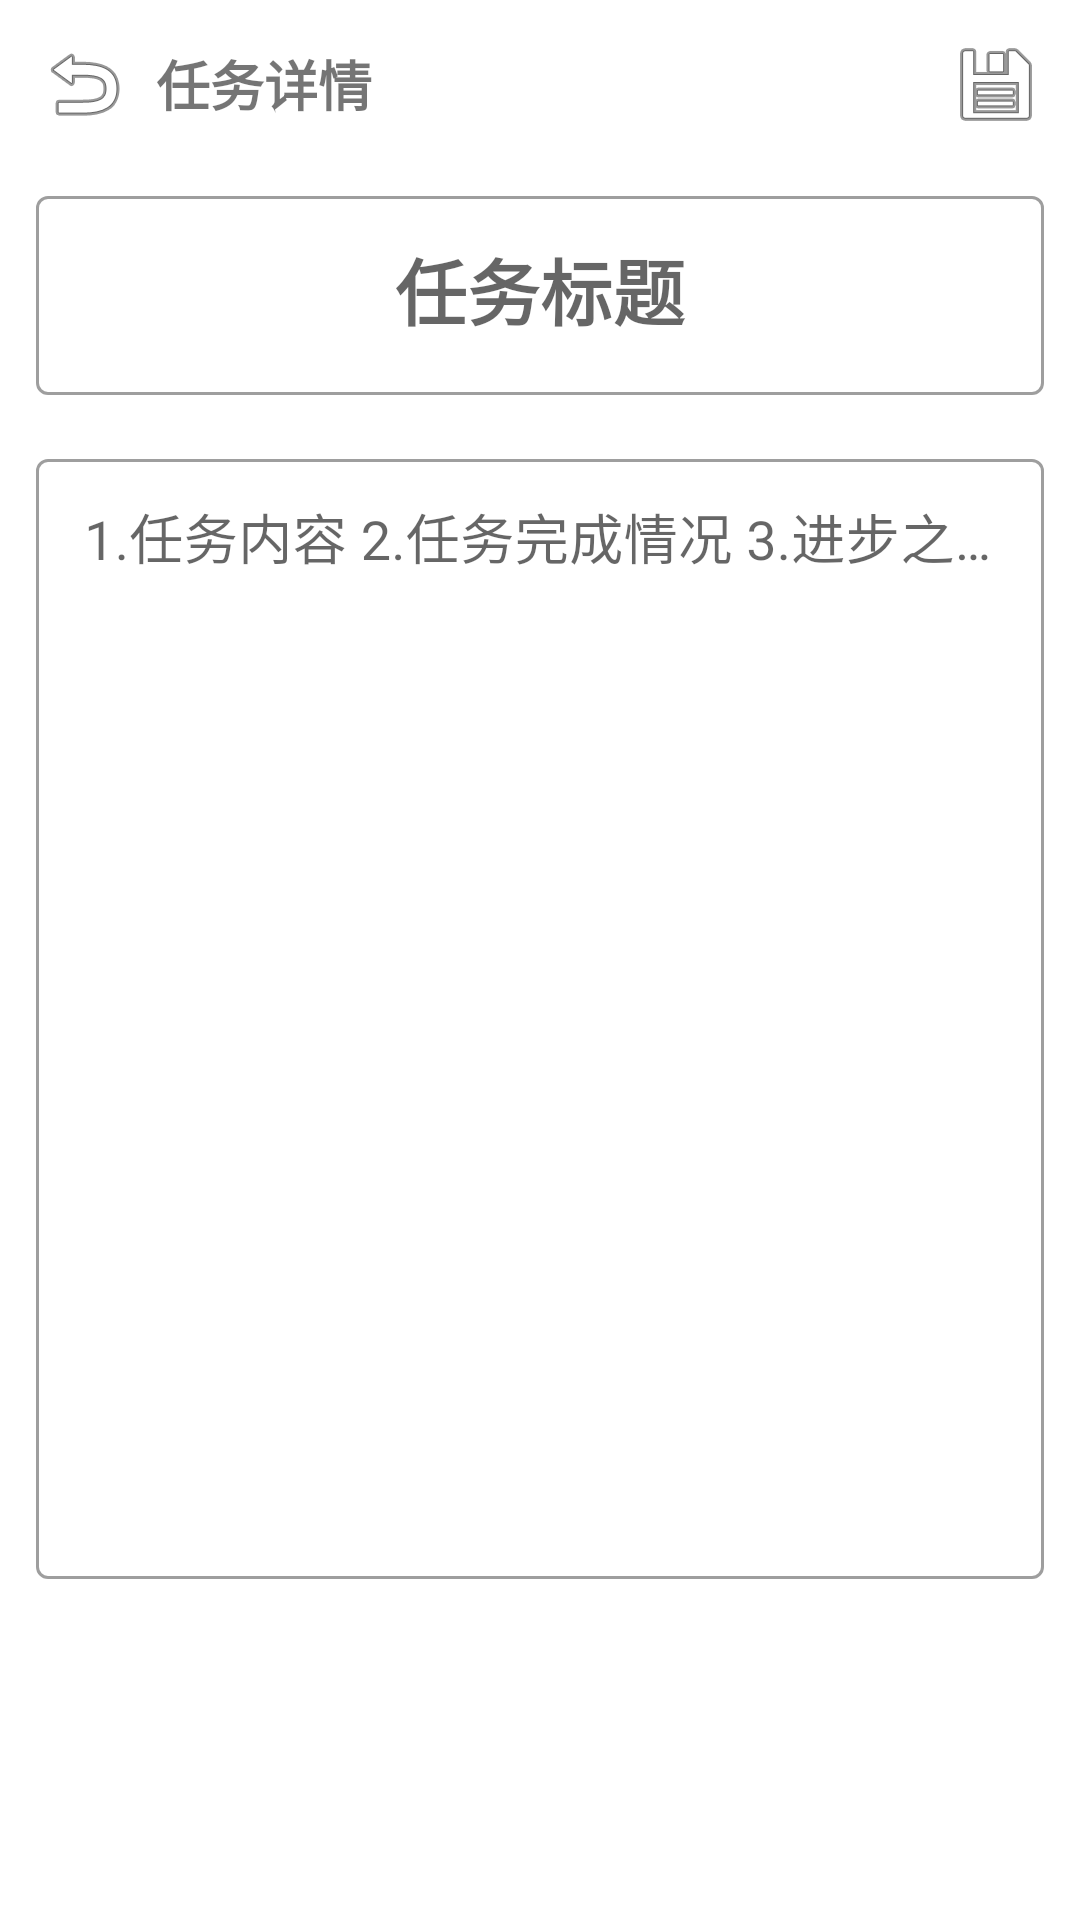

Named icons in this screenshot (1080w x 1920h) and their centers, [x,y]:
revert: [85,84]
save: [996,84]
